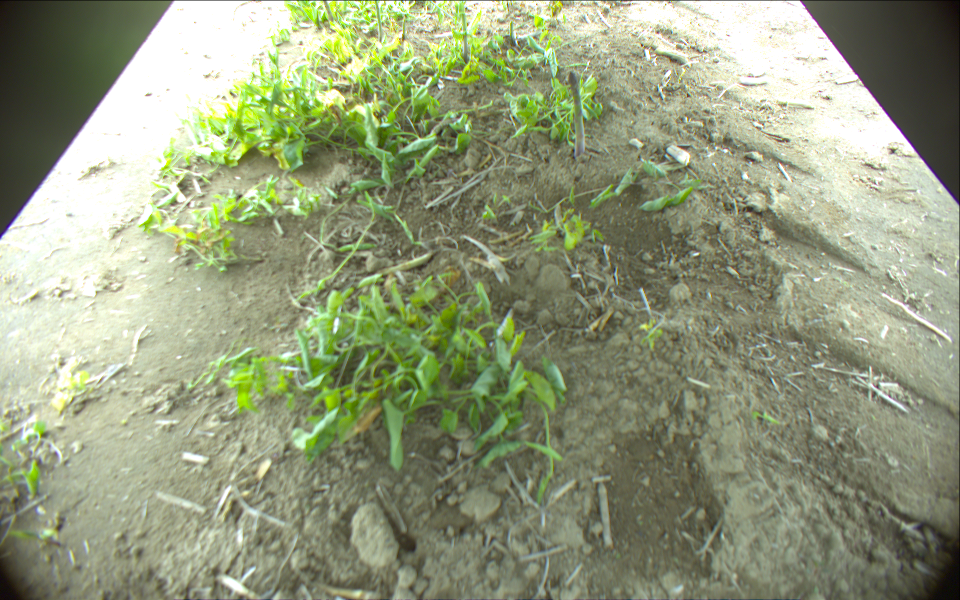aspa: (567, 71, 588, 156), (372, 1, 383, 42), (461, 11, 470, 59), (320, 1, 336, 26), (506, 22, 518, 48)
